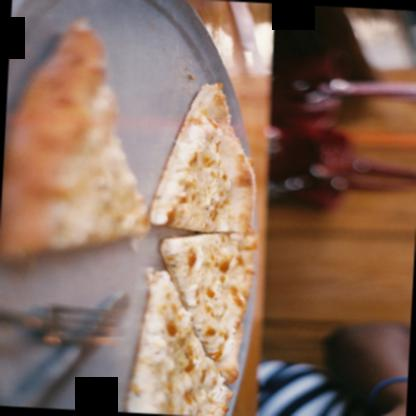handbag: (268, 41, 416, 210)
